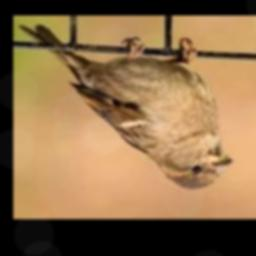Sparrow: (19, 25, 233, 188)
